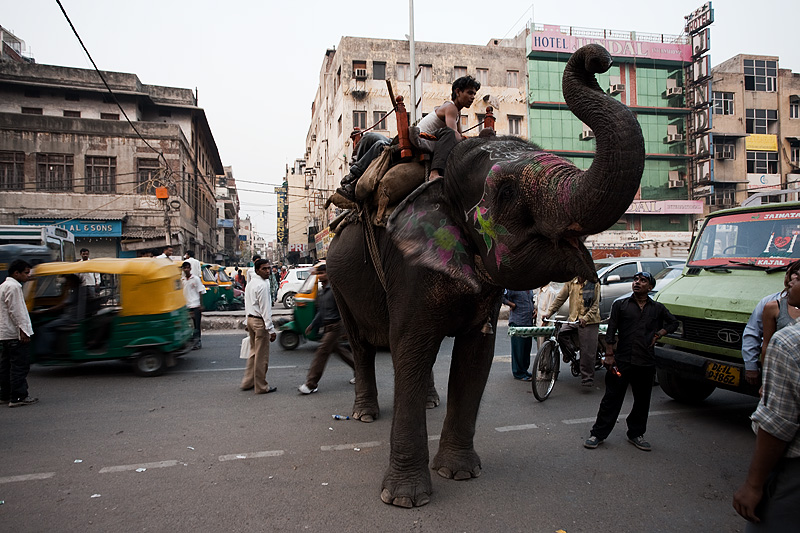Indian Elephant: (305, 46, 648, 516)
